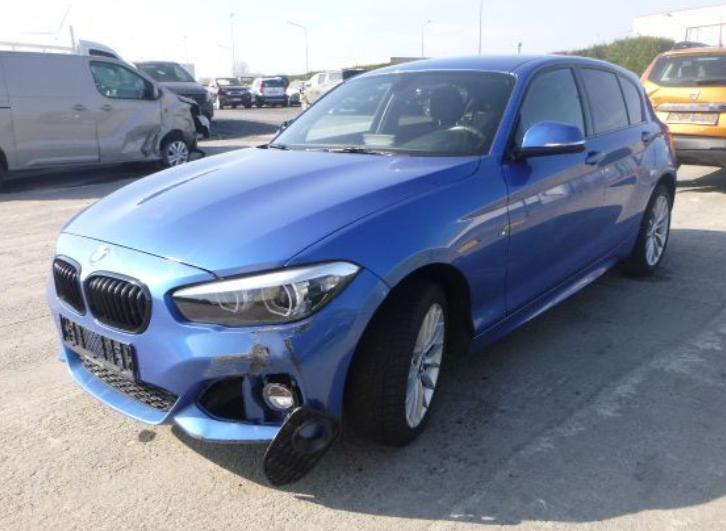Back-door: (578, 65, 656, 257)
Back-wheel: (618, 186, 672, 275)
Back-window: (581, 69, 643, 133)
Fender: (283, 153, 510, 336)
Front-bumper: (49, 233, 391, 445)
Front-door: (503, 64, 606, 315)
Front-wheel: (344, 280, 451, 446)
Front-window: (516, 68, 585, 145)
Grille: (84, 271, 152, 334), (52, 256, 83, 314)
Headlight: (174, 261, 360, 325)
Hood: (62, 146, 480, 277)
License-plate: (59, 314, 138, 379)
Mirror: (511, 120, 584, 157), (280, 122, 293, 132)
Quarter-panel: (639, 121, 676, 225)
Rocker-panel: (471, 226, 640, 352)
Roof: (356, 53, 546, 75)
Windshield: (272, 71, 514, 153)
